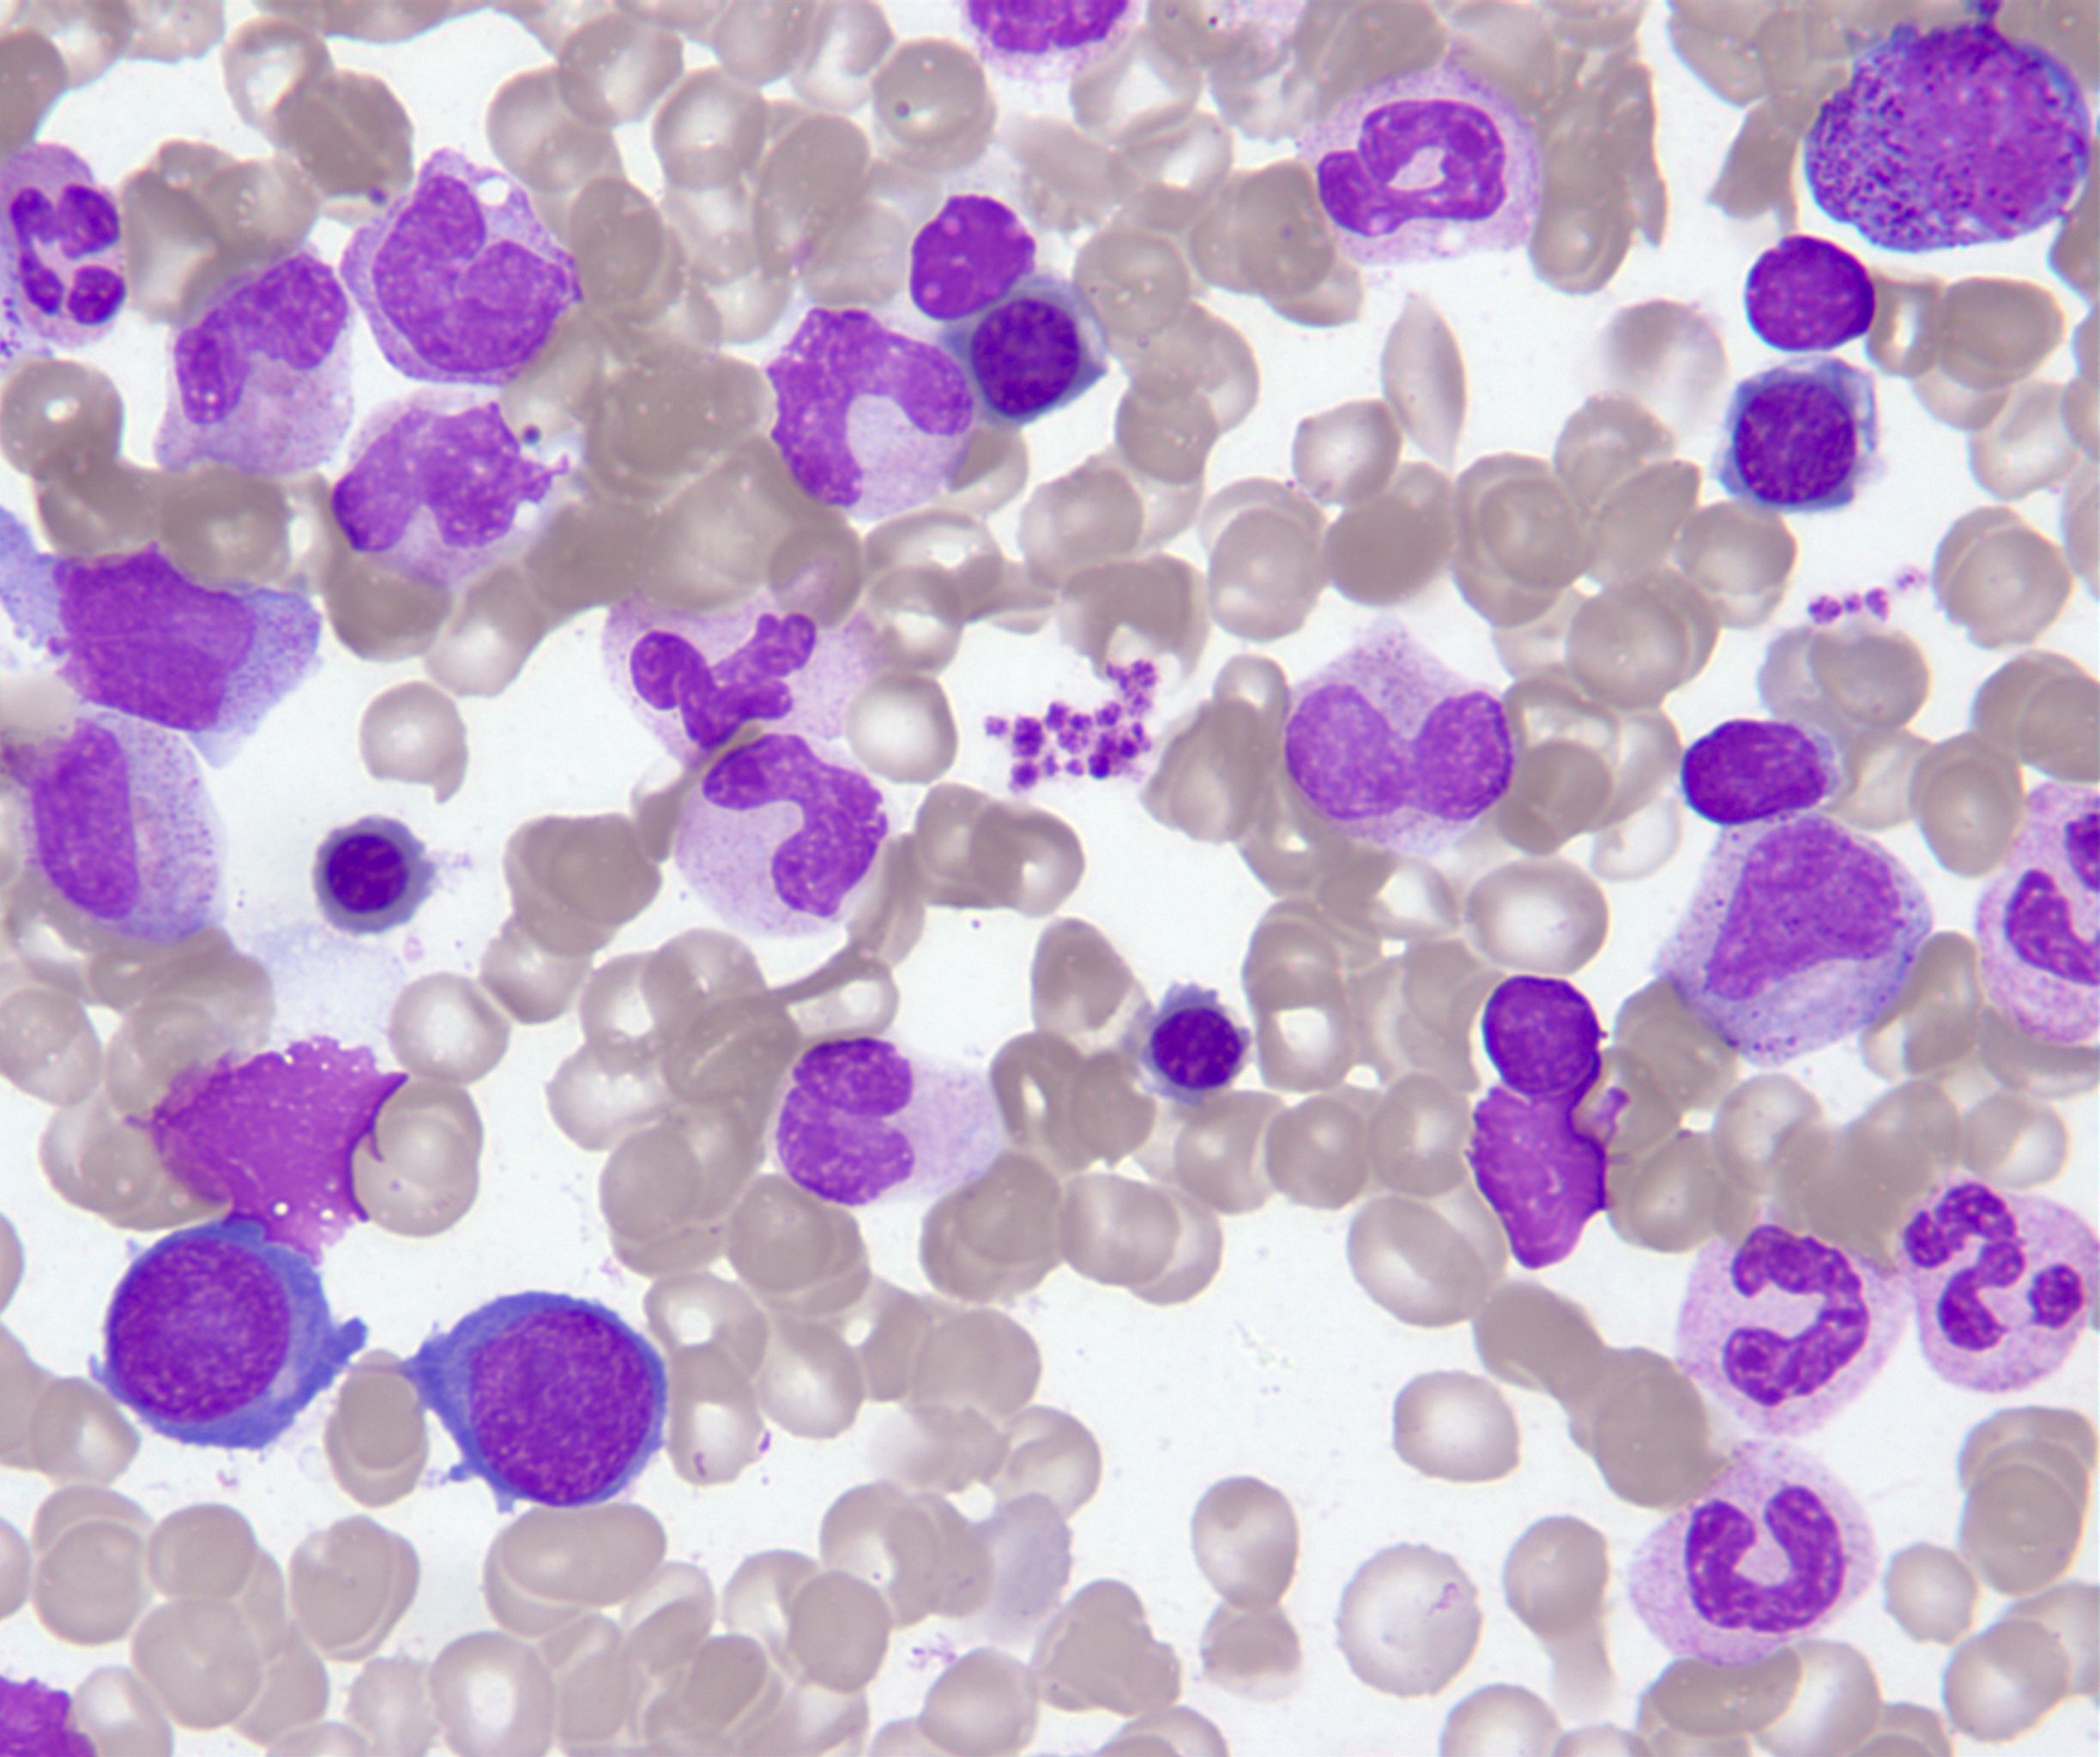2: (0, 506, 330, 773), (1793, 12, 2100, 256)
23: (87, 1209, 372, 1459), (389, 1284, 678, 1523)
24: (942, 263, 1116, 426), (1709, 363, 1889, 518), (1120, 975, 1268, 1110), (309, 810, 438, 940)
3: (1643, 806, 1943, 1073), (0, 707, 230, 951)
32: (1671, 714, 1851, 831)
4: (1273, 626, 1524, 851), (321, 386, 579, 588), (147, 248, 365, 483), (759, 1031, 1008, 1214)
42: (333, 141, 590, 396)
5: (1624, 1438, 1887, 1673), (1287, 49, 1551, 279), (757, 302, 984, 525), (665, 728, 897, 944), (1673, 1218, 1889, 1436)
6: (593, 572, 879, 768), (1885, 1169, 2100, 1398), (0, 138, 133, 352)
x: (1735, 227, 1889, 359)
